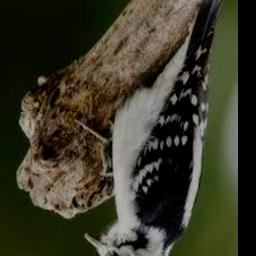Woodpecker: (73, 0, 232, 256)
